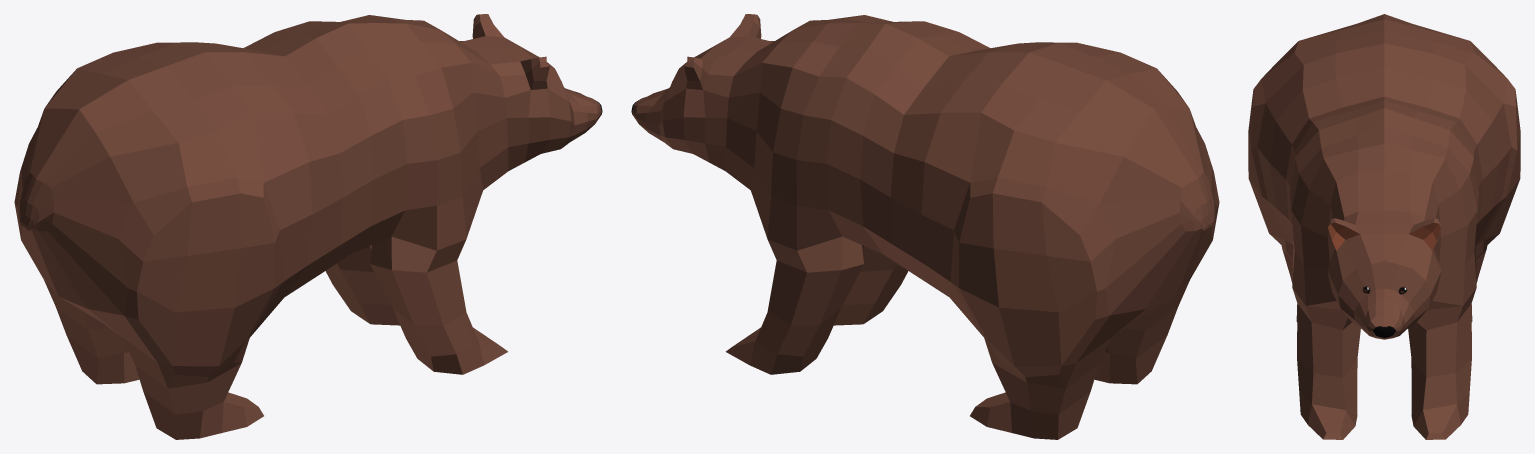
Rendered from Oso (1).fbx.
3 views of the same model, side by side, from view 1: azimuth 30°, elevation 25°; view 2: azimuth 150°, elevation 25°; view 3: azimuth 270°, elevation 25° (orthographic). The views are drawn at different scales.
Parts seen in each view (by area): view 1: Plane; view 2: Plane; view 3: Plane.
Part boxes in pixels (box(x1,y1,x2,y2)): Plane: box(14, 14, 602, 439); Plane: box(631, 14, 1219, 439); Plane: box(1248, 14, 1520, 439).
Bounding box in the file's own units: 581 × 327 × 282.
Materials: 1 (1 with a texture image).
